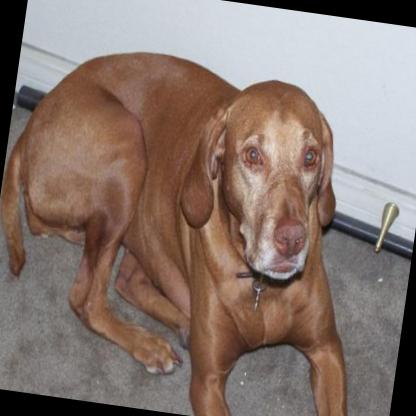vizsla: (0, 33, 394, 416)
